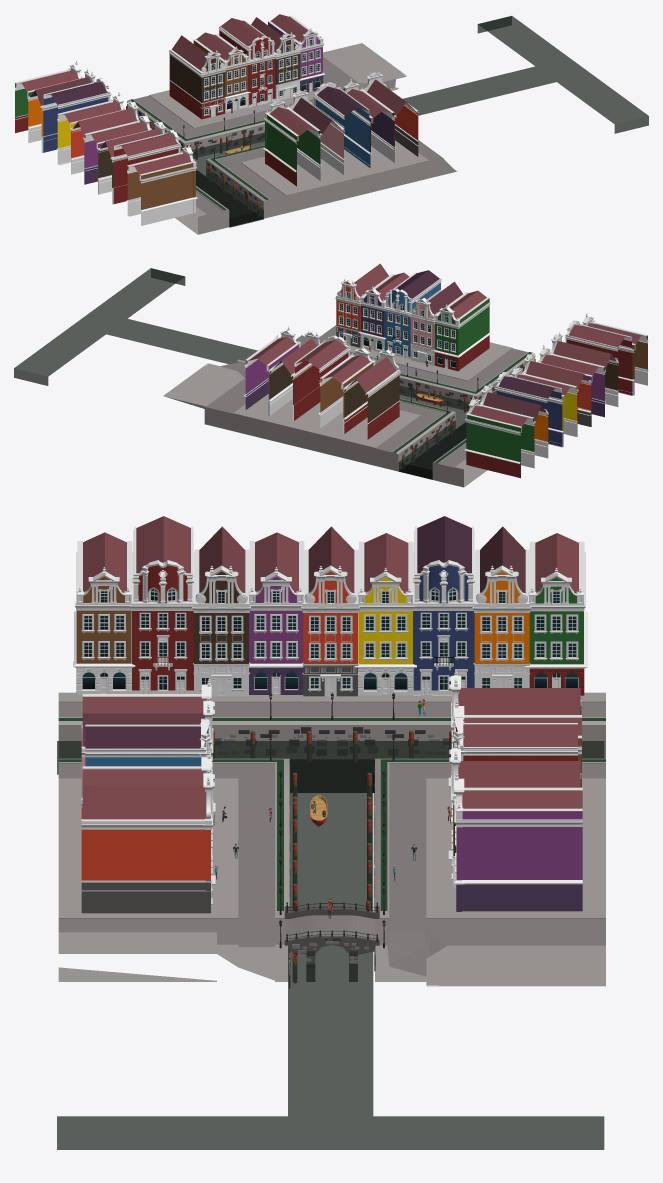
Rendered from base-ams-5.glb.
The picture shows the model from 3 angles, top to bottom: view 1: azimuth 30°, elevation 25°; view 2: azimuth 150°, elevation 25°; view 3: azimuth 270°, elevation 25°; orthographic projection. The views are drawn at different scales.
Visible parts, largest first — view 1: Ground_geo12, Water_geo, Parts_geo_25_New_color_palette_mat_0.004, Parts_geo_10_New_color_palette_mat_0.009, Parts_geo_14_New_color_palette_mat_0.005, Parts_geo_28_New_color_palette_mat_0.003, Parts_geo_14_New_color_palette_mat_0.004, Parts_geo_23_New_color_palette_mat_0.004, Parts_geo_22_New_color_palette_mat_0.001, Parts_geo_10_New_color_palette_mat_0.010, Parts_geo_01_New_color_palette_mat_0.005, Parts_geo_29_New_color_palette_mat_0.001 (+16 smaller); view 2: Ground_geo12, Water_geo, Parts_geo_10_New_color_palette_mat_0.007, Parts_geo_28_New_color_palette_mat_0.003, Parts_geo_23_New_color_palette_mat_0.005, Parts_geo_10_New_color_palette_mat_0.009, Parts_geo_23_New_color_palette_mat_0.004, Parts_geo_25_New_color_palette_mat_0.005, Parts_geo_14_New_color_palette_mat_0.004, Parts_geo_13, Parts_geo_07_New_color_palette_mat_0.001, Parts_geo_01_New_color_palette_mat_0.004 (+15 smaller); view 3: Ground_geo12, Water_geo, Parts_geo_16, Parts_geo_07_New_color_palette_mat_0.001, Parts_geo_22_New_color_palette_mat_0.003, Parts_geo_13_New_color_palette_mat_0.003, Parts_geo_17_New_color_palette_mat_0.003, Parts_geo_20_New_color_palette_mat_0.003, Parts_geo_26_New_color_palette_mat_0.003, Parts_geo_11_New_color_palette_mat_0.005, Parts_geo_07_New_color_palette_mat_0.006, Parts_geo_08_New_color_palette_mat_0.003 (+22 smaller).
Boxes of the visible parts, x1,y1,x2,y2 form: Ground_geo12: (126, 43, 457, 234); Water_geo: (138, 16, 648, 227); Parts_geo_25_New_color_palette_mat_0.004: (126, 153, 193, 225); Parts_geo_10_New_color_palette_mat_0.009: (266, 107, 321, 186); Parts_geo_14_New_color_palette_mat_0.005: (315, 86, 370, 167); Parts_geo_28_New_color_palette_mat_0.003: (169, 35, 207, 117); Parts_geo_14_New_color_palette_mat_0.004: (43, 82, 108, 165); Parts_geo_23_New_color_palette_mat_0.004: (113, 134, 178, 216); Parts_geo_22_New_color_palette_mat_0.001: (246, 36, 275, 107); Parts_geo_10_New_color_palette_mat_0.010: (344, 89, 395, 168); Parts_geo_01_New_color_palette_mat_0.005: (293, 97, 344, 180); Parts_geo_29_New_color_palette_mat_0.001: (199, 50, 226, 119); Ground_geo12: (163, 325, 535, 487); Water_geo: (14, 268, 522, 479); Parts_geo_10_New_color_palette_mat_0.007: (466, 405, 535, 478); Parts_geo_28_New_color_palette_mat_0.003: (343, 357, 398, 439); Parts_geo_23_New_color_palette_mat_0.005: (294, 339, 348, 420); Parts_geo_10_New_color_palette_mat_0.009: (437, 290, 491, 369); Parts_geo_23_New_color_palette_mat_0.004: (566, 325, 632, 395); Parts_geo_25_New_color_palette_mat_0.005: (318, 355, 373, 433); Parts_geo_14_New_color_palette_mat_0.004: (496, 376, 562, 447); Parts_geo_13: (384, 288, 413, 359); Parts_geo_07_New_color_palette_mat_0.001: (244, 336, 298, 415); Parts_geo_01_New_color_palette_mat_0.004: (483, 392, 548, 467); Ground_geo12: (58, 692, 605, 988); Water_geo: (57, 741, 604, 1149); Parts_geo_16: (82, 785, 209, 913); Parts_geo_07_New_color_palette_mat_0.001: (462, 787, 582, 911); Parts_geo_22_New_color_palette_mat_0.003: (130, 560, 194, 693); Parts_geo_13_New_color_palette_mat_0.003: (411, 560, 474, 695); Parts_geo_17_New_color_palette_mat_0.003: (301, 565, 359, 696); Parts_geo_20_New_color_palette_mat_0.003: (192, 565, 250, 696); Parts_geo_26_New_color_palette_mat_0.003: (73, 567, 135, 694); Parts_geo_11_New_color_palette_mat_0.005: (354, 567, 416, 695); Parts_geo_07_New_color_palette_mat_0.006: (462, 787, 581, 911); Parts_geo_08_New_color_palette_mat_0.003: (248, 567, 304, 694).
Bounding box in the file's own units: 38.58 × 6.23 × 18.25.
Materials: 5 (4 with a texture image).
